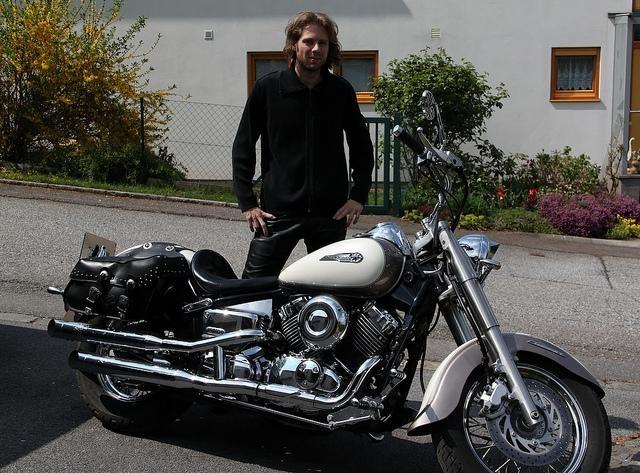motorcycle: (44, 130, 608, 466)
